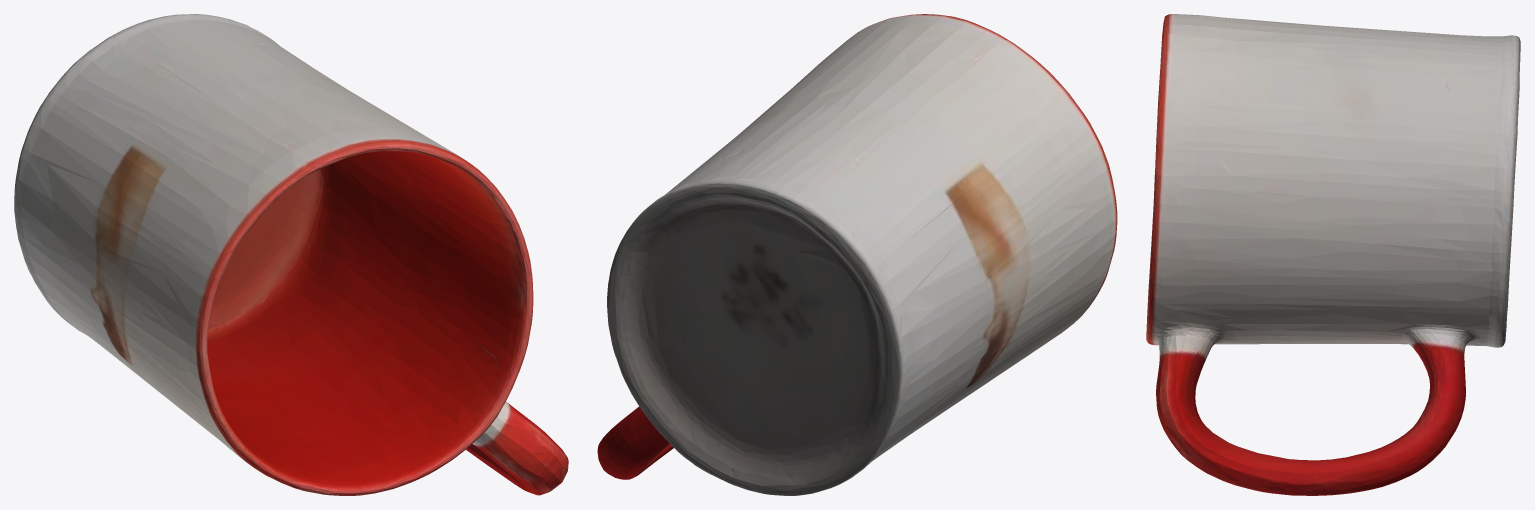
Rendered from mug10.glb.
3 views of the same model, side by side, from view 1: azimuth 30°, elevation 25°; view 2: azimuth 150°, elevation 25°; view 3: azimuth 270°, elevation 25° (orthographic). The views are drawn at different scales.
Parts seen in each view (by area): view 1: geometry_0; view 2: geometry_0; view 3: geometry_0.
Boxes of the visible parts, left/top/right/bottom form: geometry_0: left=14, top=14, right=568, bottom=495; geometry_0: left=597, top=14, right=1117, bottom=495; geometry_0: left=1146, top=14, right=1520, bottom=495.
Size of the model in its own units: 0.0898 by 0.0908 by 0.0828.
Materials: 1 (1 with a texture image).
